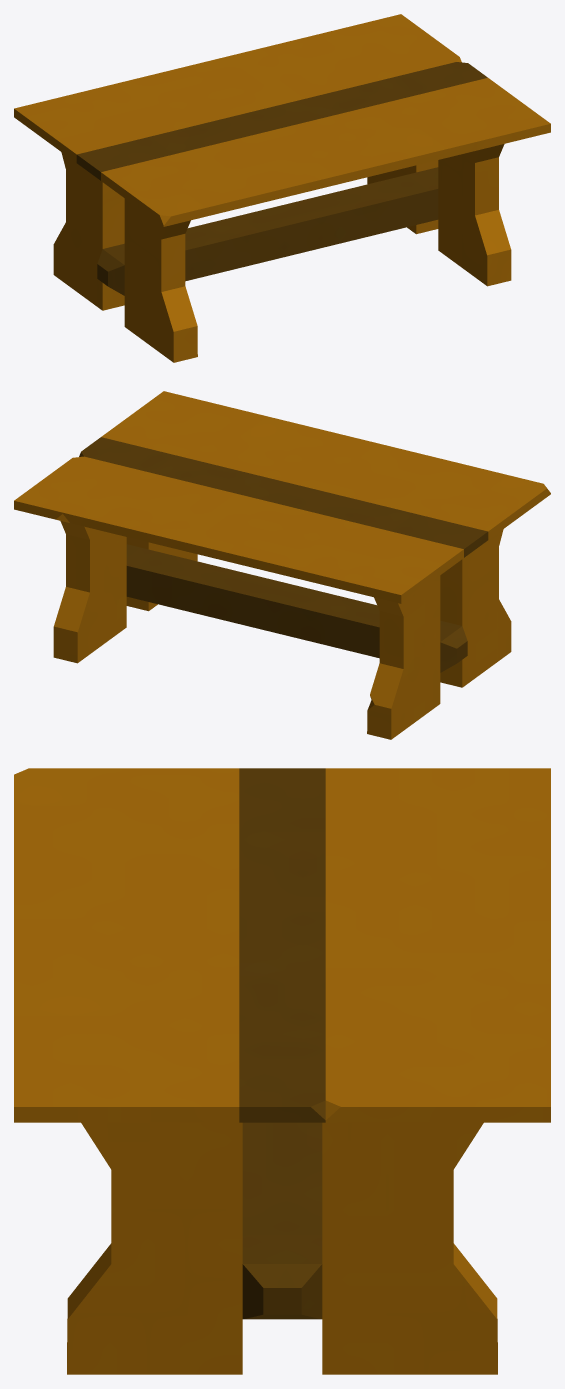
Rendered from Table_4.fbx.
The picture shows the model from 3 angles, top to bottom: view 1: azimuth 30°, elevation 25°; view 2: azimuth 150°, elevation 25°; view 3: azimuth 270°, elevation 25°; orthographic projection. The views are drawn at different scales.
Parts seen in each view (by area): view 1: Table 4; view 2: Table 4; view 3: Table 4.
Part boxes in pixels (x1=…): Table 4: x1=14, y1=14, x2=550, y2=362; Table 4: x1=14, y1=391, x2=550, y2=739; Table 4: x1=14, y1=768, x2=550, y2=1374.
Size of the model in its own units: 229 by 91.47 by 154.
